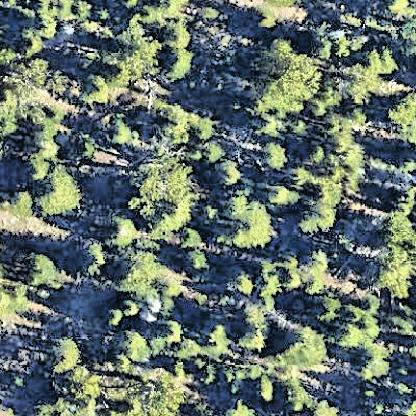tree-top: (241, 41, 320, 122), (124, 161, 200, 240), (215, 190, 279, 252), (35, 0, 110, 48), (119, 251, 180, 304), (192, 4, 242, 60), (33, 164, 83, 218), (371, 242, 416, 302), (280, 323, 336, 368), (334, 302, 384, 351), (282, 248, 332, 296), (290, 191, 341, 235), (121, 381, 177, 416), (231, 272, 267, 322), (24, 249, 67, 288), (44, 334, 85, 374), (50, 385, 102, 416), (123, 22, 161, 63), (2, 337, 40, 377), (252, 0, 306, 28), (387, 90, 416, 142), (164, 36, 197, 80), (357, 343, 394, 382), (104, 214, 140, 250), (257, 139, 291, 175), (319, 112, 348, 154), (5, 183, 37, 221), (156, 104, 191, 138), (391, 302, 416, 343), (14, 26, 44, 60), (120, 327, 151, 359), (238, 321, 267, 354), (204, 321, 232, 355), (300, 397, 350, 416), (107, 120, 136, 150), (0, 103, 27, 135), (347, 66, 372, 99), (232, 269, 258, 300), (321, 157, 352, 183), (166, 26, 194, 54), (103, 60, 135, 84), (223, 396, 261, 416), (372, 48, 400, 75), (80, 247, 108, 274), (254, 374, 280, 402), (218, 159, 244, 187), (191, 361, 217, 387), (281, 384, 307, 410), (184, 250, 209, 276), (332, 29, 357, 55), (252, 116, 279, 140), (204, 138, 228, 164), (160, 316, 184, 341), (312, 297, 336, 321), (170, 360, 190, 387), (73, 137, 100, 157), (81, 76, 102, 100), (104, 304, 125, 327), (38, 116, 61, 136), (192, 116, 212, 139), (153, 0, 180, 17), (32, 136, 52, 158), (134, 308, 158, 326), (311, 37, 331, 58), (385, 0, 410, 16), (121, 299, 140, 320), (176, 338, 198, 356), (308, 99, 324, 121), (308, 145, 324, 164)
